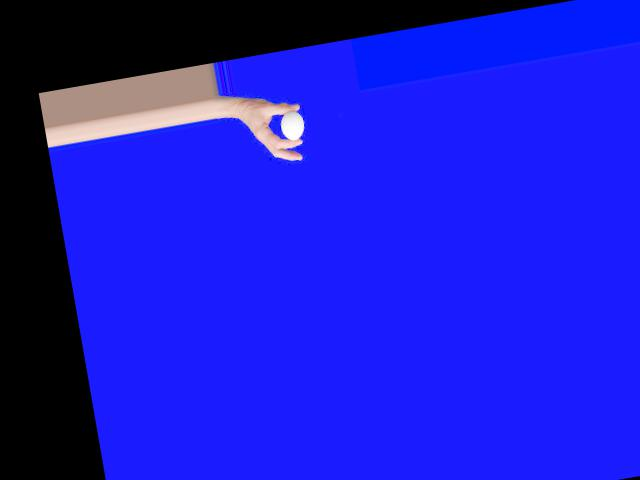egg: (278, 108, 307, 142)
